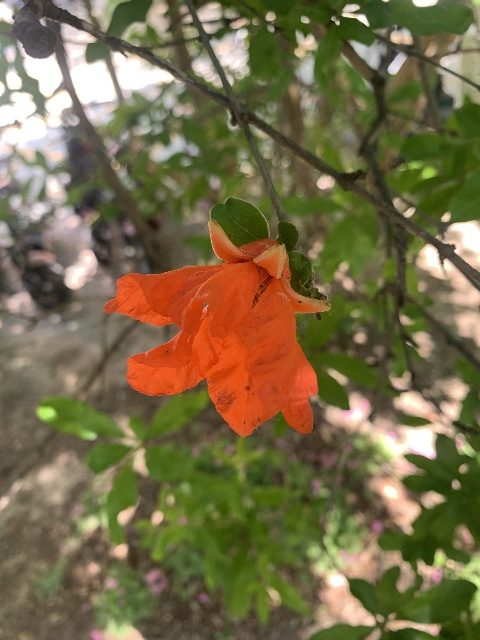flower: (102, 220, 330, 439)
